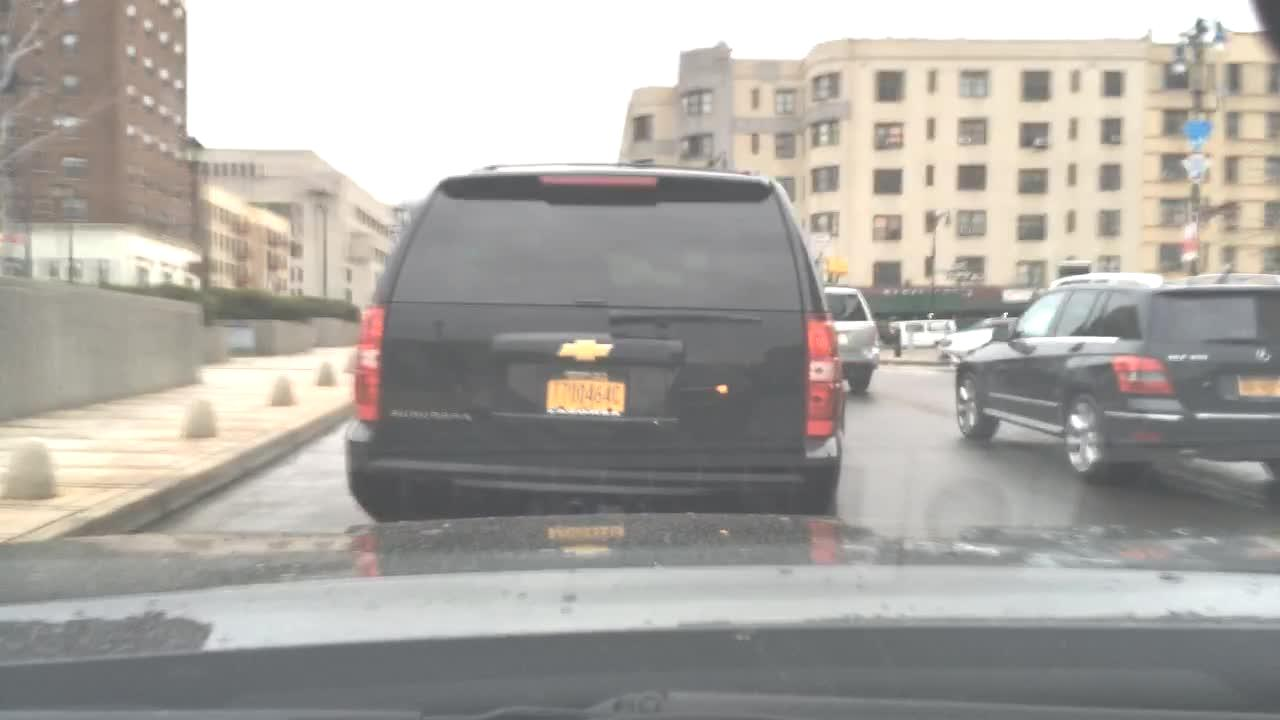chevrolet: (541, 324, 641, 385)
